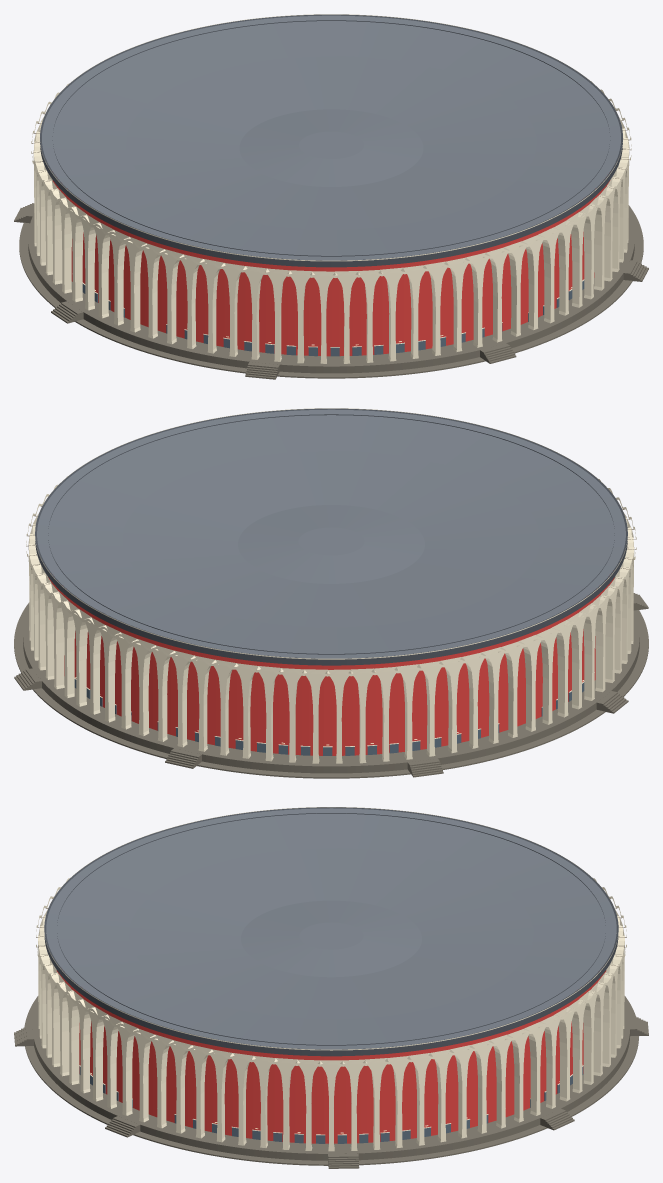
The model's file is shell.glb.
3 renders of one model, top to bottom at view 1: azimuth 30°, elevation 25°; view 2: azimuth 150°, elevation 25°; view 3: azimuth 270°, elevation 25°, orthographic. The views are drawn at different scales.
Visible parts, largest first — view 1: shell_roof_canopy_membrane, shell_bowl_mass_arcade_columns, shell_bowl_mass_cladding_red, shell_bowl_mass_pedestal, shell_bowl_mass_terrace_base, shell_roof_canopy_ring, shell_bowl_mass_entry_stairs, shell_bowl_mass_arcade_eaves, shell_roof_canopy_ring_top, shell_roof_canopy_base, shell_roof_canopy_ring_trim, shell_bowl_mass_portal_doors; view 2: shell_roof_canopy_membrane, shell_bowl_mass_arcade_columns, shell_bowl_mass_cladding_red, shell_bowl_mass_pedestal, shell_bowl_mass_terrace_base, shell_roof_canopy_ring, shell_bowl_mass_entry_stairs, shell_bowl_mass_arcade_eaves, shell_roof_canopy_ring_top, shell_roof_canopy_base, shell_roof_canopy_ring_trim, shell_bowl_mass_portal_doors; view 3: shell_roof_canopy_membrane, shell_bowl_mass_arcade_columns, shell_bowl_mass_cladding_red, shell_bowl_mass_pedestal, shell_bowl_mass_terrace_base, shell_roof_canopy_ring, shell_bowl_mass_entry_stairs, shell_bowl_mass_arcade_eaves, shell_roof_canopy_ring_top, shell_roof_canopy_base, shell_roof_canopy_ring_trim, shell_bowl_mass_portal_doors.
Part boxes in pixels (x1,y1,x2,y2): shell_roof_canopy_membrane: (42,15,620,260); shell_bowl_mass_arcade_columns: (33,117,629,363); shell_bowl_mass_cladding_red: (52,180,610,356); shell_bowl_mass_pedestal: (28,213,634,373); shell_bowl_mass_terrace_base: (19,205,643,378); shell_roof_canopy_ring: (40,14,622,267); shell_bowl_mass_entry_stairs: (14,203,648,379); shell_bowl_mass_arcade_eaves: (31,81,631,277); shell_roof_canopy_ring_top: (40,14,622,260); shell_roof_canopy_base: (52,20,610,260); shell_roof_canopy_ring_trim: (40,14,622,261); shell_bowl_mass_portal_doors: (82,280,584,356); shell_roof_canopy_membrane: (37,409,625,658); shell_bowl_mass_arcade_columns: (28,512,634,763); shell_bowl_mass_cladding_red: (48,577,614,755); shell_bowl_mass_pedestal: (23,611,639,773); shell_bowl_mass_terrace_base: (14,602,648,778); shell_roof_canopy_ring: (35,408,627,665); shell_bowl_mass_entry_stairs: (14,593,648,777); shell_bowl_mass_arcade_eaves: (26,476,636,676); shell_roof_canopy_ring_top: (35,408,627,658); shell_roof_canopy_base: (48,414,614,658); shell_roof_canopy_ring_trim: (35,408,627,659); shell_bowl_mass_portal_doors: (74,679,584,755); shell_roof_canopy_membrane: (46,808,616,1049); shell_bowl_mass_arcade_columns: (38,909,624,1151); shell_bowl_mass_cladding_red: (56,970,606,1143); shell_bowl_mass_pedestal: (32,1003,630,1160); shell_bowl_mass_terrace_base: (24,996,638,1165); shell_roof_canopy_ring: (44,807,618,1056); shell_bowl_mass_entry_stairs: (14,1016,648,1168); shell_bowl_mass_arcade_eaves: (36,878,626,1066); shell_roof_canopy_ring_top: (44,807,618,1049); shell_roof_canopy_base: (57,813,605,1049); shell_roof_canopy_ring_trim: (44,807,618,1050); shell_bowl_mass_portal_doors: (79,1066,583,1143).
Size of the model in its own units: 151 by 28.16 by 151.
